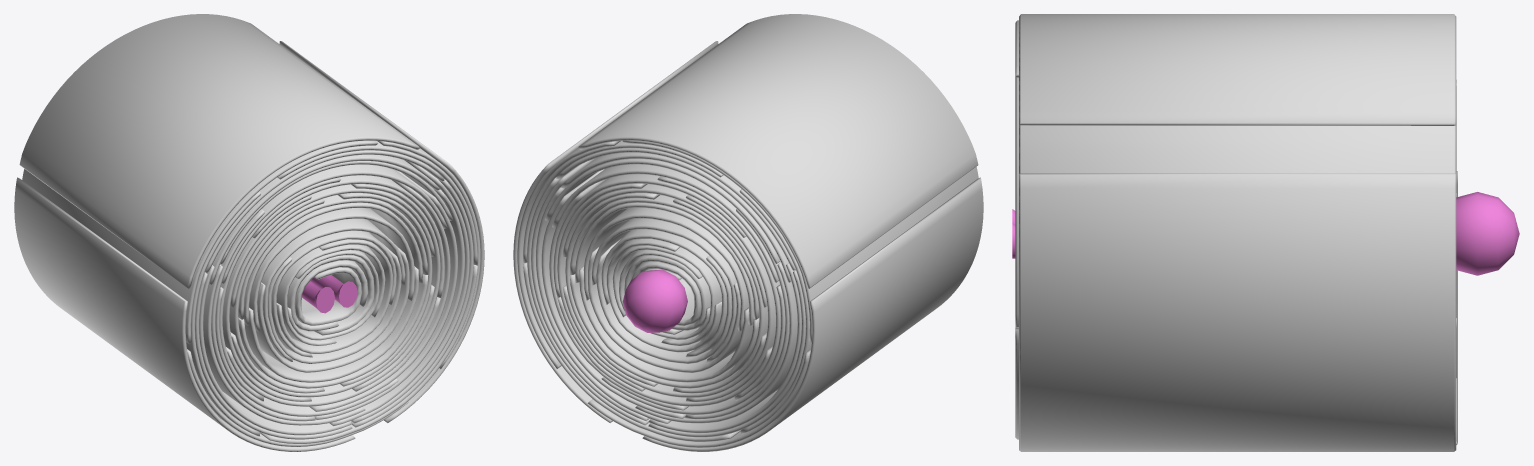
The model's file is huton3(46).FBX.
3 renders of one model, left to right at view 1: azimuth 30°, elevation 25°; view 2: azimuth 150°, elevation 25°; view 3: azimuth 270°, elevation 25°, orthographic. The views are drawn at different scales.
Visible parts, largest first — view 1: huton1; view 2: huton1; view 3: huton1.
Part boxes in pixels (<box>): huton1: <box>14,14,484,451</box>; huton1: <box>513,14,983,451</box>; huton1: <box>1012,14,1519,451</box>.
Bounding box in the file's own units: 161 × 155 × 181.
